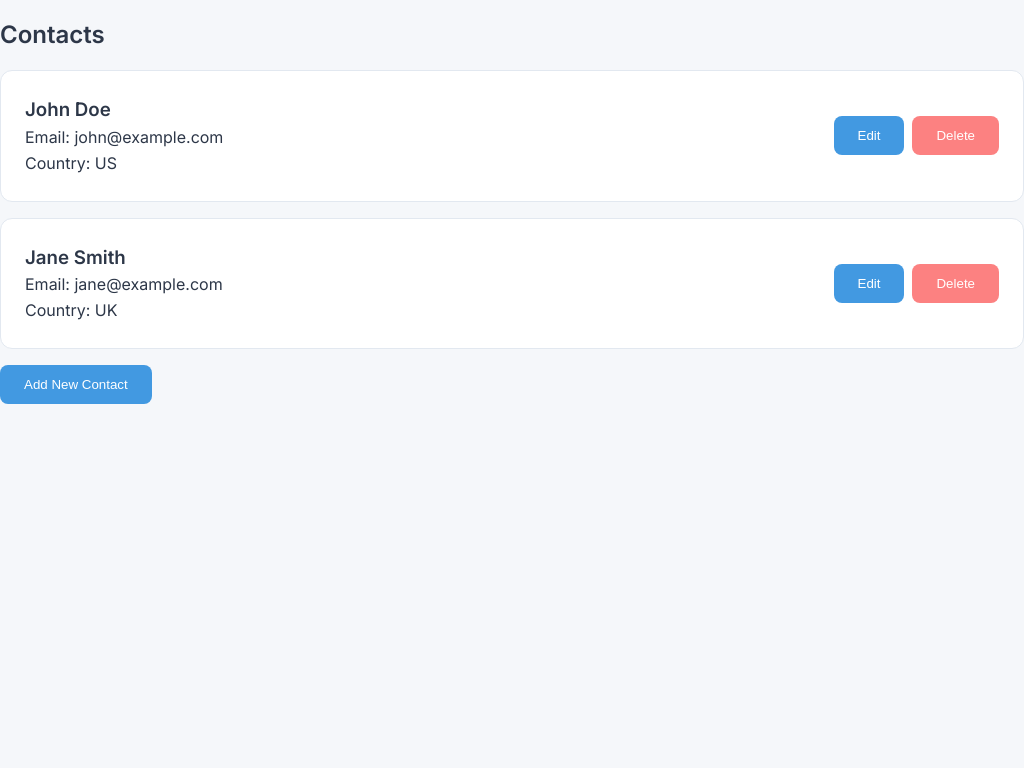
it: ContactList › shows confirmation dialog when delete is clicked
The image size is (1024, 768).
Click the button "Delete" in the row of "john@example.com" at (956, 136), box [912, 116, 999, 156]
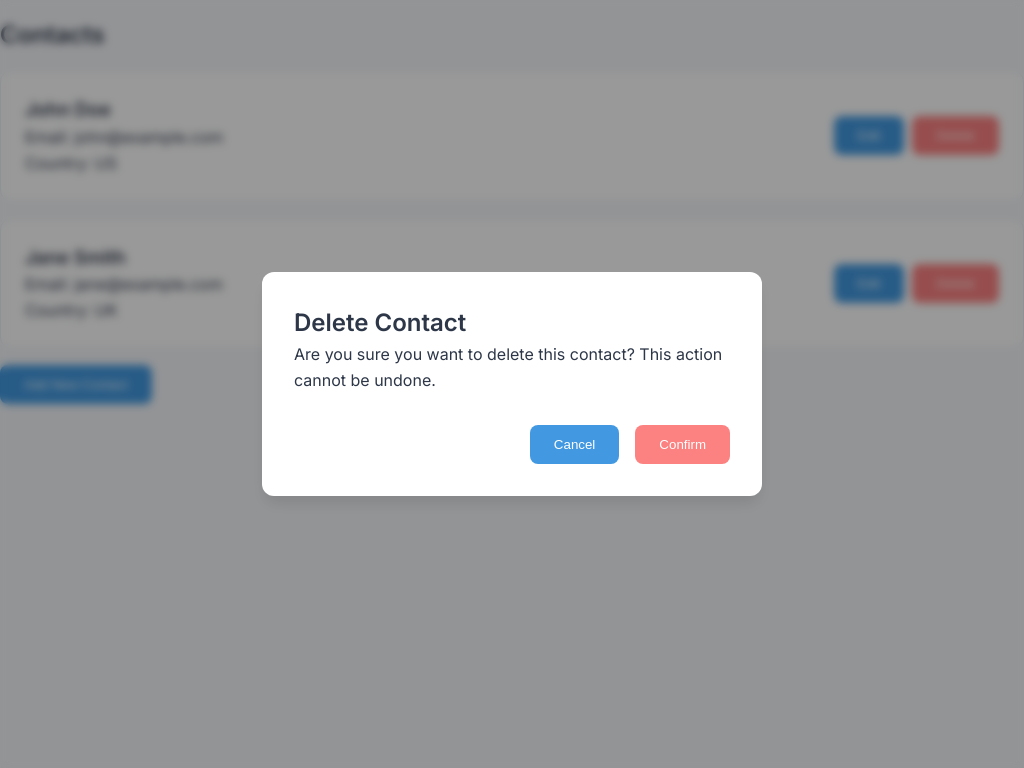
Result: the heading "Delete Contact" is shown at [294, 308, 466, 337]
